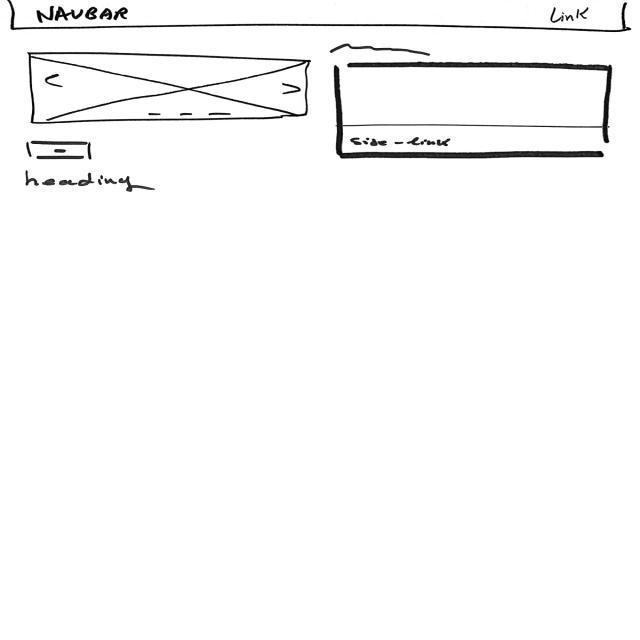container: (330, 58, 612, 164), (5, 0, 632, 32)
icon-button: (20, 134, 94, 166)
image: (24, 49, 310, 122)
label: (19, 170, 154, 198), (27, 3, 137, 24), (348, 133, 455, 151), (544, 4, 594, 26)
text: (324, 40, 436, 56)
